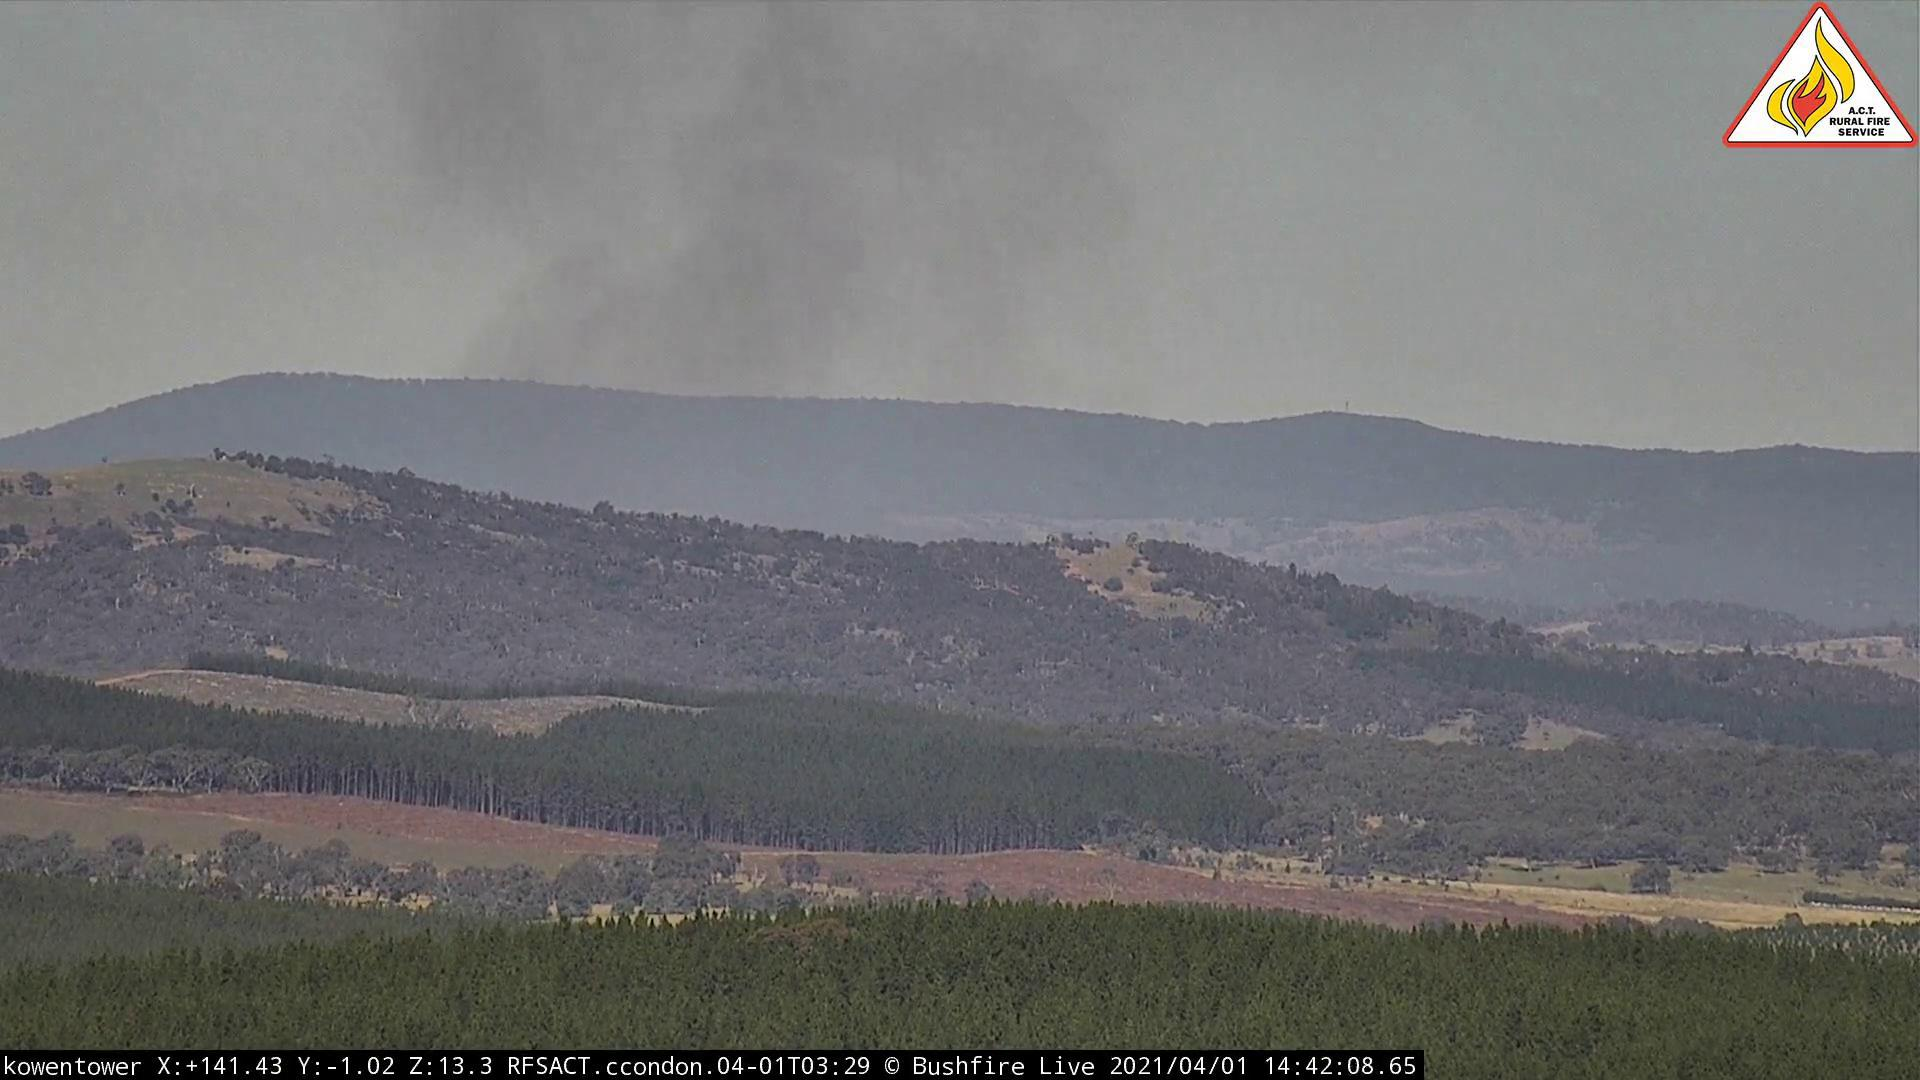instance_salient_object: (380, 3, 1138, 537)
